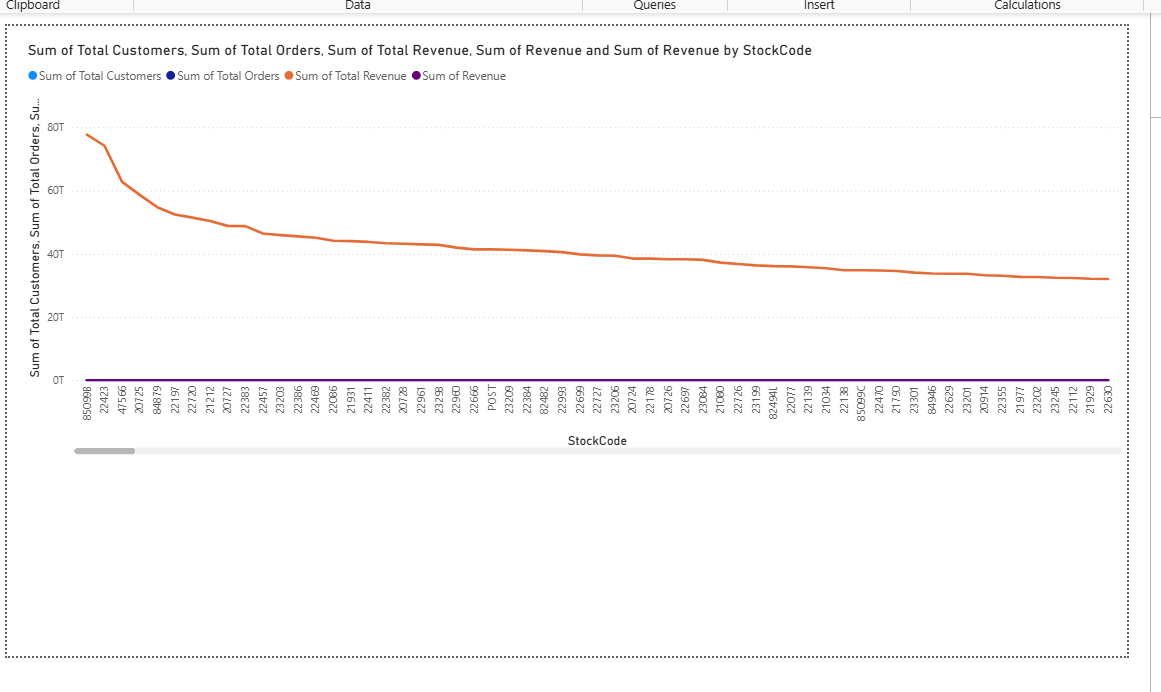

This screenshot's page, from the dashboard's own definition file:
{"tool":"powerbi","page":{"name":"Page 4","canvas":[1280,720],"ordinal":3},"visuals":[{"type":"lineChart","fields":{"Y":["Sum(data.Total Customers)","Sum(data.Total Orders)","Sum(data.Total Revenue)","Sum(data.Revenue)","Sum(data.Revenue)"],"Category":["data.StockCode"]},"box":[19.2,16.5,1261.1,477.5],"z":0}]}

Visuals, with their boxes on the page's 1280x720 design canvas (x1, y1, x2, y2). These are canvas units, not pixel positions in the 1161x692 screenshot, which may show the page scaled, cropped or inside an application window:
lineChart - Sum(data.Total Customers) x Sum(data.Total Orders): 19:16:1280:494
